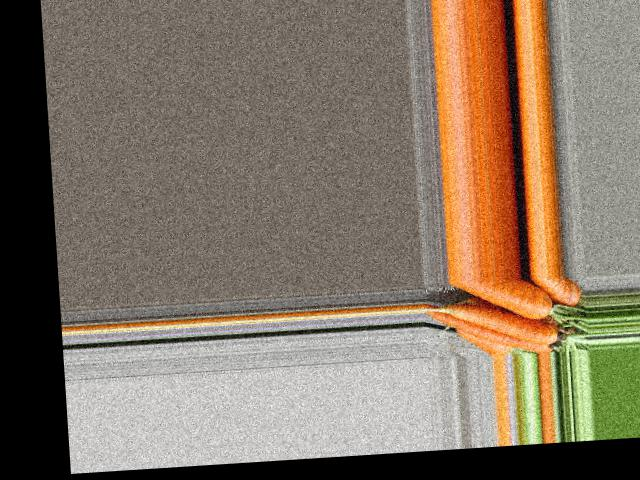carrot: (520, 275, 561, 309)
